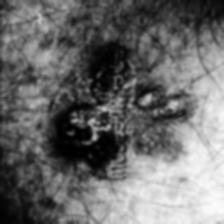Potentially Malignant Skin Tumors: (52, 103, 120, 163)
